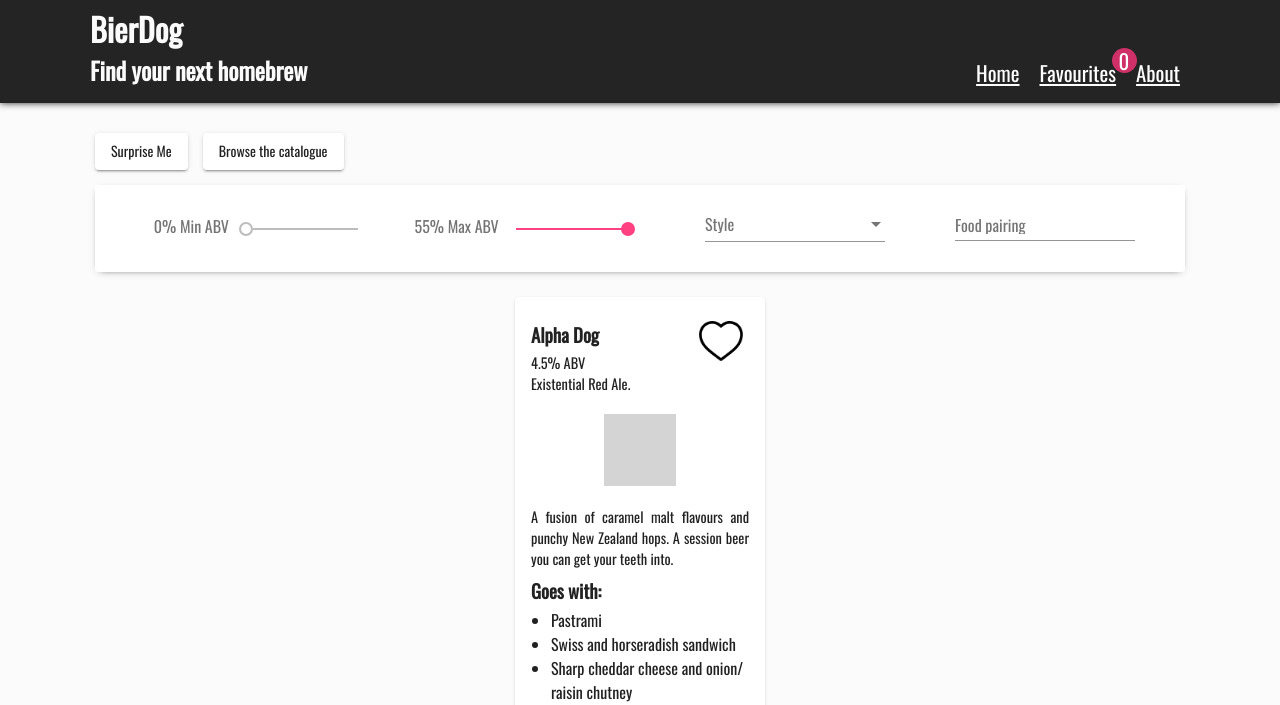
Test: the search feature › should display error when no results
Type "shrimps" into the field with test id "food" at (1045, 225), box x1=955 y1=216 x2=1135 y2=234
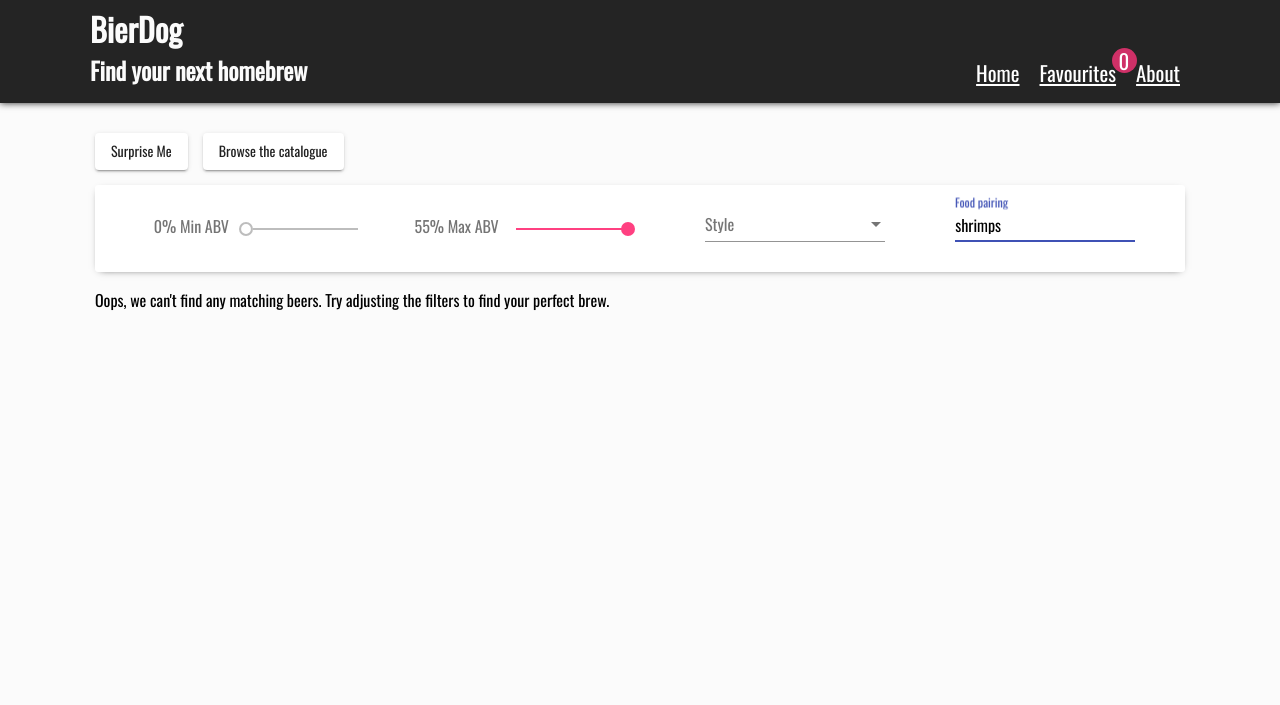
Now the text "Oops" is shown, box x1=95 y1=288 x2=609 y2=312
